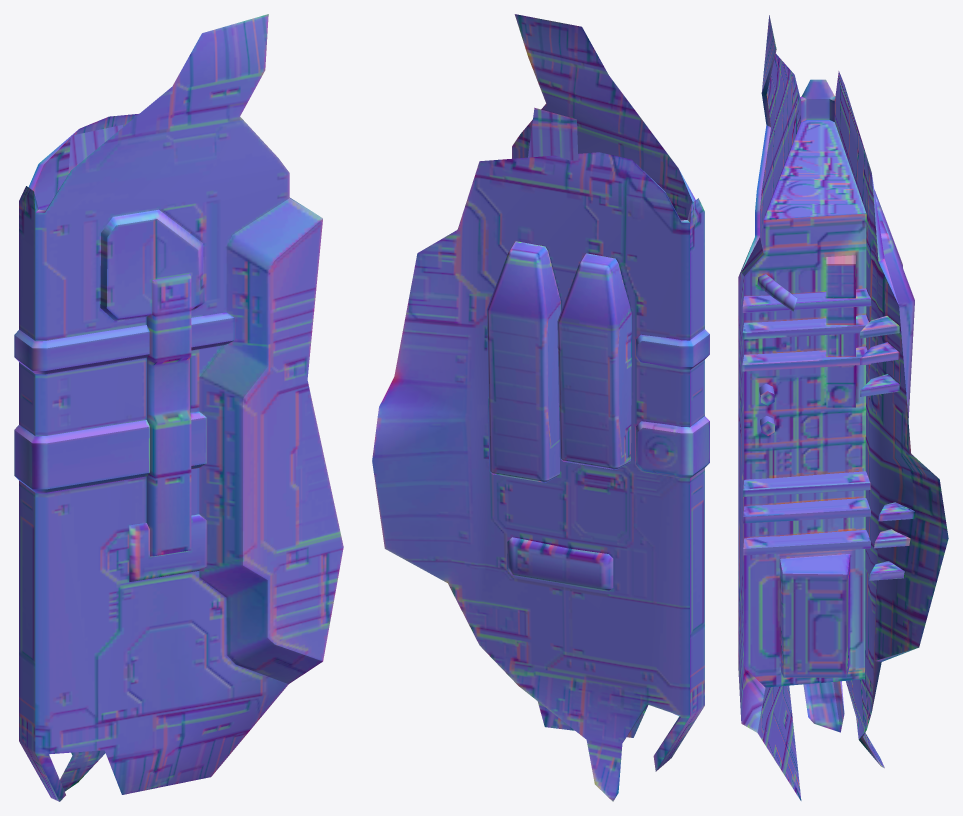
The model's file is ship_debris_04_part_02.glb.
The picture shows the model from 3 angles, left to right: view 1: azimuth 30°, elevation 25°; view 2: azimuth 150°, elevation 25°; view 3: azimuth 270°, elevation 25°; orthographic projection. The views are drawn at different scales.
Parts seen in each view (by area): view 1: ship_debris_04_part_02; view 2: ship_debris_04_part_02; view 3: ship_debris_04_part_02.
Boxes of the visible parts, bbox=[...] form: ship_debris_04_part_02: bbox=[14, 14, 343, 801]; ship_debris_04_part_02: bbox=[372, 14, 709, 801]; ship_debris_04_part_02: bbox=[738, 15, 948, 800].
Size of the model in its own units: 4.38 by 11.07 by 2.64.
1 material, 1 textured.
